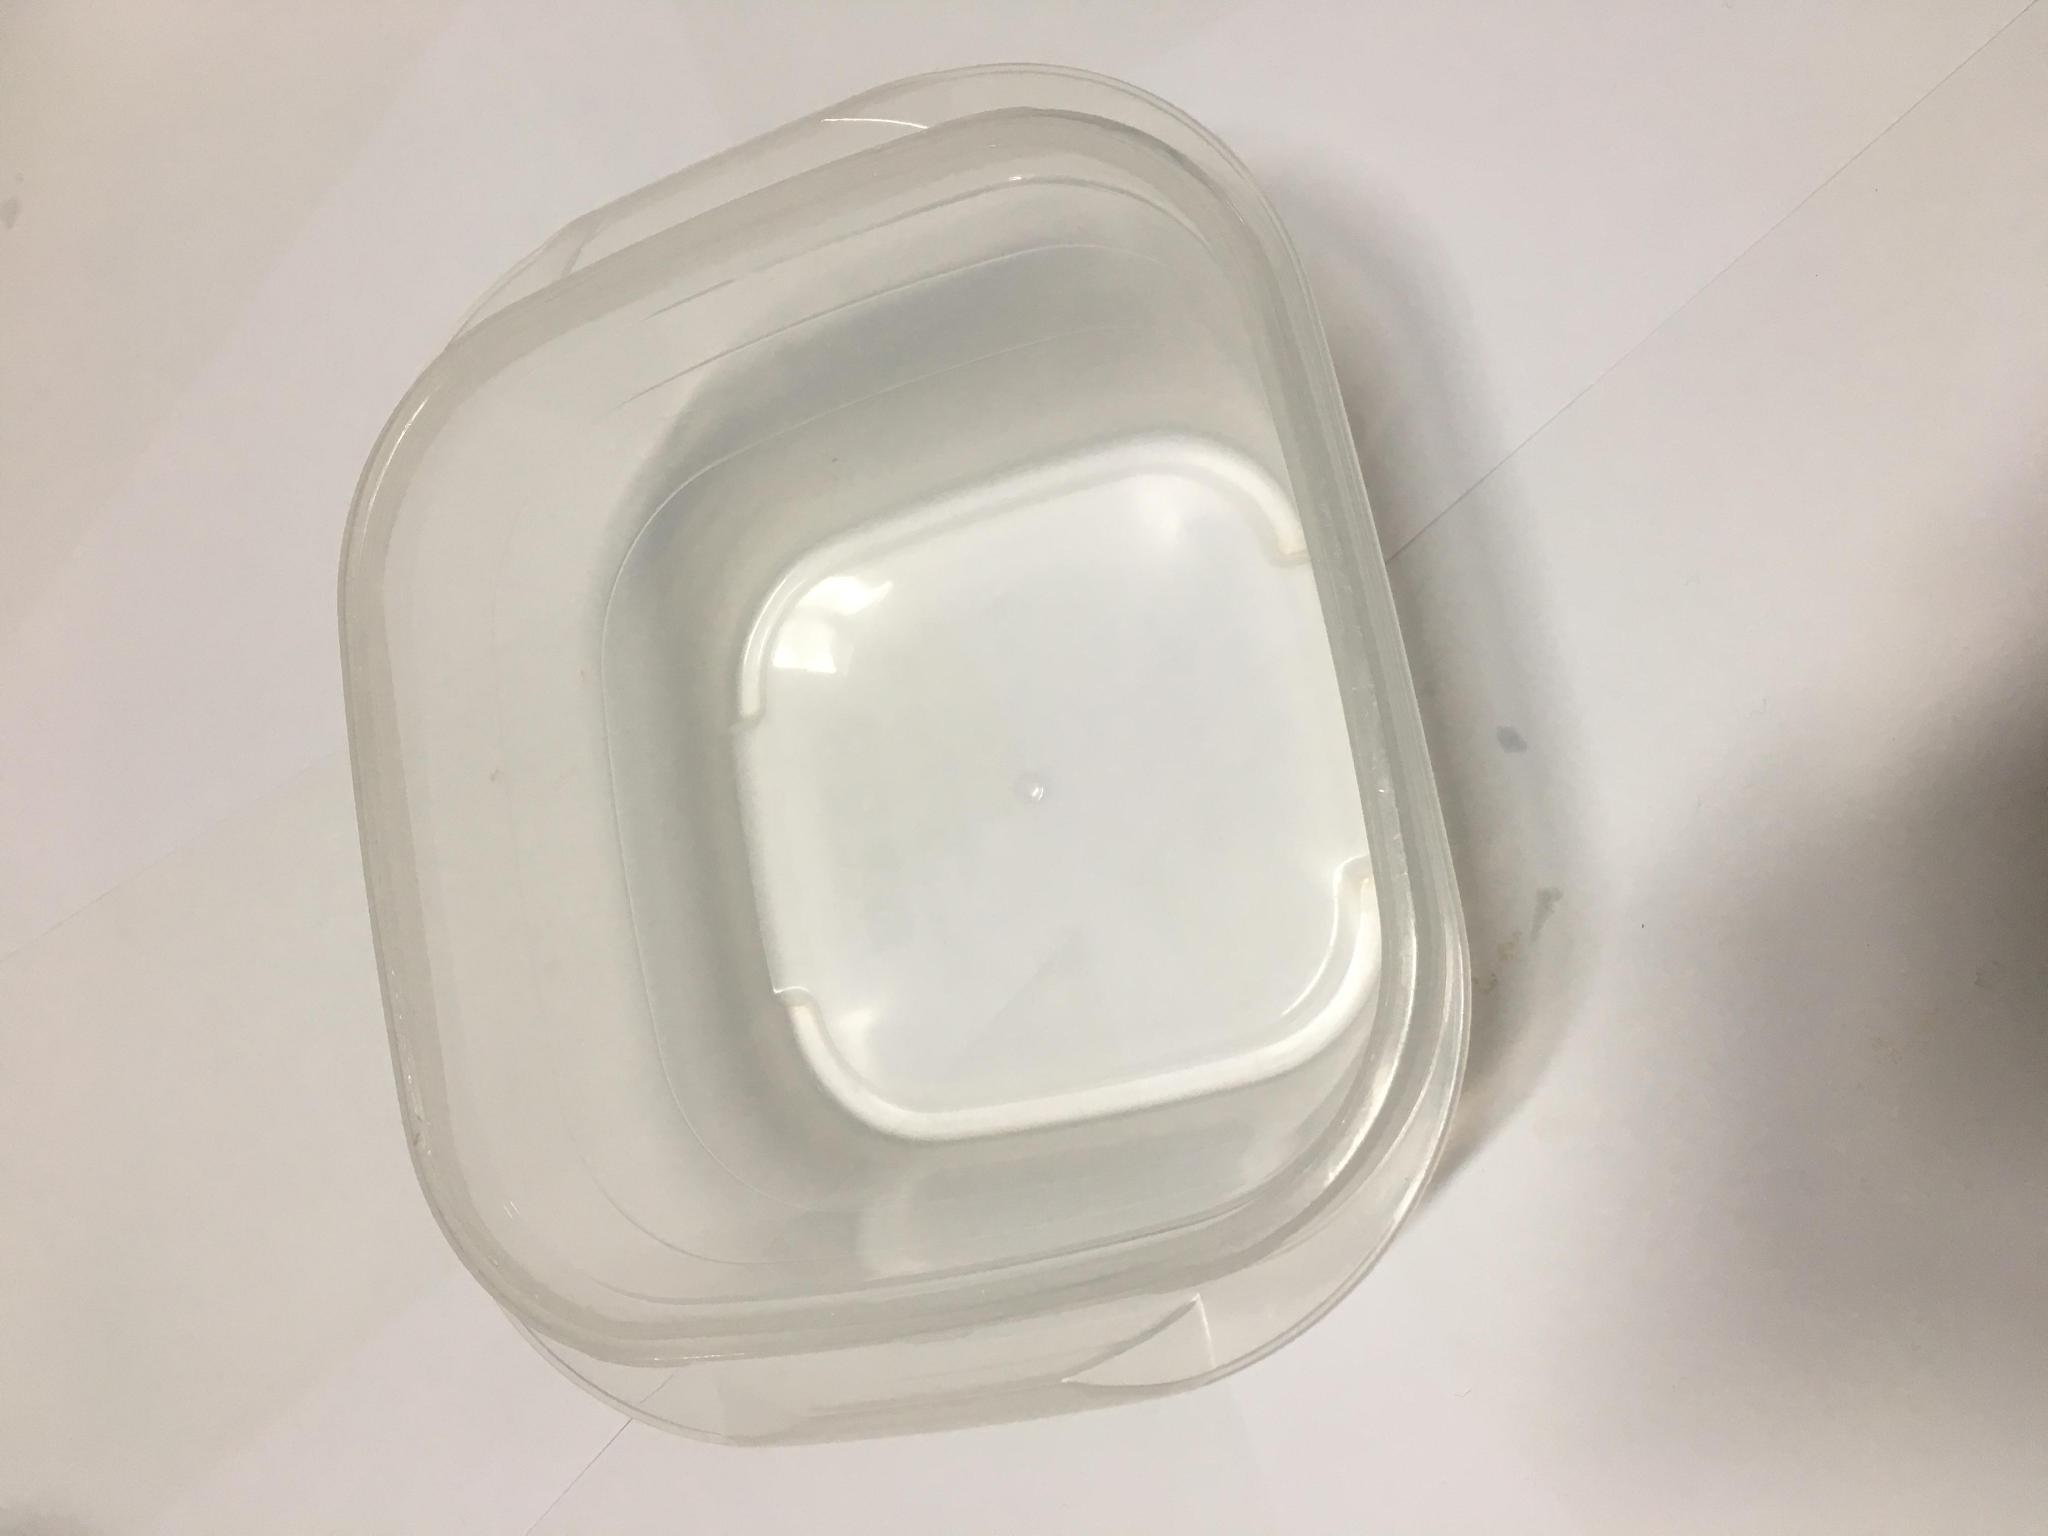bottle: (64, 264, 2048, 1134)
